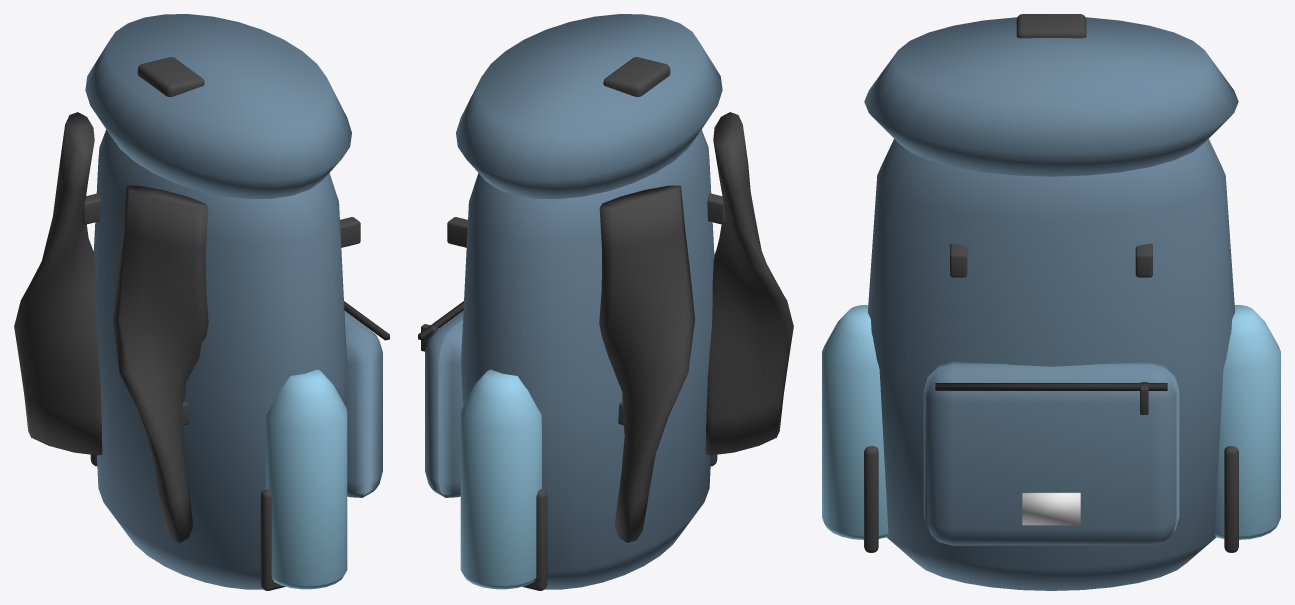
The model's file is SM_SmallBackpack.glb.
The picture shows the model from 3 angles, left to right: view 1: azimuth 30°, elevation 25°; view 2: azimuth 150°, elevation 25°; view 3: azimuth 270°, elevation 25°; orthographic projection. The views are drawn at different scales.
Visible parts, largest first — view 1: SM_SmallBackpack; view 2: SM_SmallBackpack; view 3: SM_SmallBackpack.
Part boxes in pixels (x1,y1,x2,y2): SM_SmallBackpack: [14, 14, 389, 590]; SM_SmallBackpack: [418, 14, 793, 590]; SM_SmallBackpack: [822, 14, 1280, 590].
Size of the model in its own units: 0.2288 by 0.386 by 0.316.
